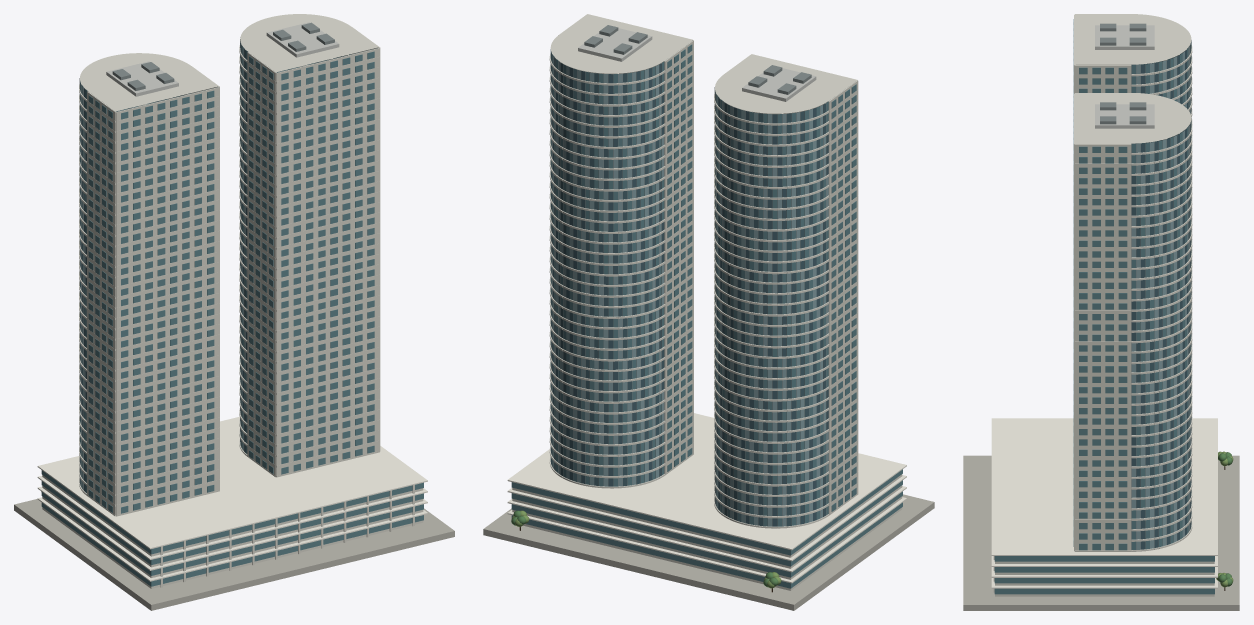
File: wtc.glb
3 renders of one model, left to right at view 1: azimuth 30°, elevation 25°; view 2: azimuth 150°, elevation 25°; view 3: azimuth 270°, elevation 25°, orthographic. The views are drawn at different scales.
Parts seen in each view (by area): view 1: 03 East tower / curtain wall / Limestone, 03 West tower / curtain wall / Limestone, 03 East tower / curtain wall / Glass, 03 West tower / curtain wall / Glass, 01 Retail podium / Ivory, 01 Retail podium / Paving, 01 Retail podium / Glass, 05 Roof parapets and service core / Limestone, 01 Retail podium / Limestone, 05 Roof parapets and service core / Concrete, 04 Glazing divisions / Metal, 06 Roof mechanical equipment / Metal (+4 smaller); view 2: 03 West tower / curtain wall / Limestone, 03 East tower / curtain wall / Limestone, 03 West tower / curtain wall / Glass, 03 East tower / curtain wall / Glass, 04 Glazing divisions / Metal, 01 Retail podium / Ivory, 03 West tower / curtain wall / Glass shade, 03 West tower / curtain wall / Glass light, 03 East tower / curtain wall / Glass shade, 03 East tower / curtain wall / Glass light, 01 Retail podium / Paving, 01 Retail podium / Glass (+4 smaller); view 3: 03 East tower / curtain wall / Limestone, 01 Retail podium / Ivory, 03 East tower / curtain wall / Glass, 01 Retail podium / Paving, 05 Roof parapets and service core / Limestone, 03 East tower / curtain wall / Glass light, 03 East tower / curtain wall / Glass shade, 01 Retail podium / Glass, 04 Glazing divisions / Metal, 01 Retail podium / Limestone, 05 Roof parapets and service core / Concrete, 03 West tower / curtain wall / Limestone (+4 smaller).
Boxes of the visible parts, x1,y1,x2,y2 form: 03 East tower / curtain wall / Limestone: (239,28,380,477); 03 West tower / curtain wall / Limestone: (79,67,219,516); 03 East tower / curtain wall / Glass: (240,45,374,474); 03 West tower / curtain wall / Glass: (80,85,214,513); 01 Retail podium / Ivory: (37,416,427,581); 01 Retail podium / Paving: (14,499,454,610); 01 Retail podium / Glass: (41,470,423,586); 05 Roof parapets and service core / Limestone: (80,14,378,111); 01 Retail podium / Limestone: (42,475,423,588); 05 Roof parapets and service core / Concrete: (106,22,339,96); 04 Glazing divisions / Metal: (79,39,342,490); 06 Roof mechanical equipment / Metal: (112,22,334,90); 03 West tower / curtain wall / Limestone: (714,55,858,528); 03 East tower / curtain wall / Limestone: (549,14,693,488); 03 West tower / curtain wall / Glass: (715,84,856,526); 03 East tower / curtain wall / Glass: (550,44,692,486); 04 Glazing divisions / Metal: (550,49,826,526); 01 Retail podium / Ivory: (507,413,906,583); 03 West tower / curtain wall / Glass shade: (715,92,828,526); 03 West tower / curtain wall / Glass light: (715,92,828,526); 03 East tower / curtain wall / Glass shade: (550,51,664,486); 03 East tower / curtain wall / Glass light: (550,45,686,486); 01 Retail podium / Paving: (483,494,934,610); 01 Retail podium / Glass: (511,469,902,588); 03 East tower / curtain wall / Limestone: (1074,93,1192,551); 01 Retail podium / Ivory: (991,418,1217,588); 03 East tower / curtain wall / Glass: (1073,98,1191,550); 01 Retail podium / Paving: (963,455,1239,610); 05 Roof parapets and service core / Limestone: (1075,14,1191,143); 03 East tower / curtain wall / Glass light: (1131,125,1191,549); 03 East tower / curtain wall / Glass shade: (1131,123,1191,549); 01 Retail podium / Glass: (994,556,1214,594); 04 Glazing divisions / Metal: (1131,40,1191,549); 01 Retail podium / Limestone: (993,556,1214,596); 05 Roof parapets and service core / Concrete: (1095,25,1154,128); 03 West tower / curtain wall / Limestone: (1074,14,1192,448).
Bounding box in the file's own units: 106 × 154 × 83.
